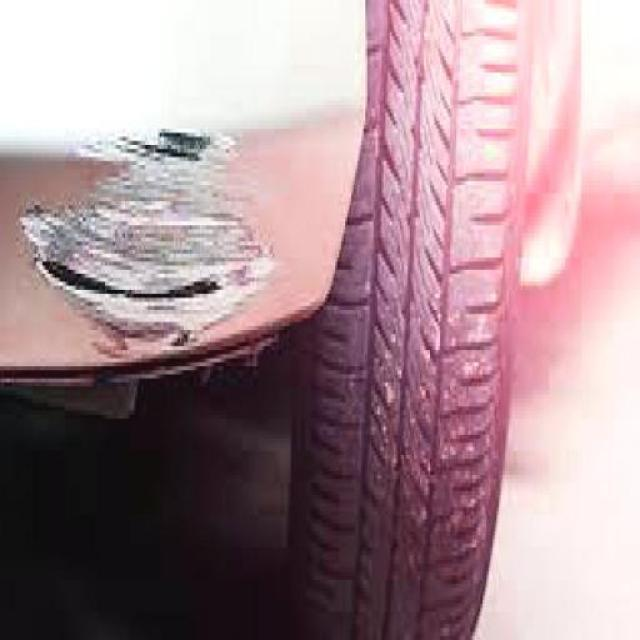Car-Damage: (22, 117, 277, 358)
